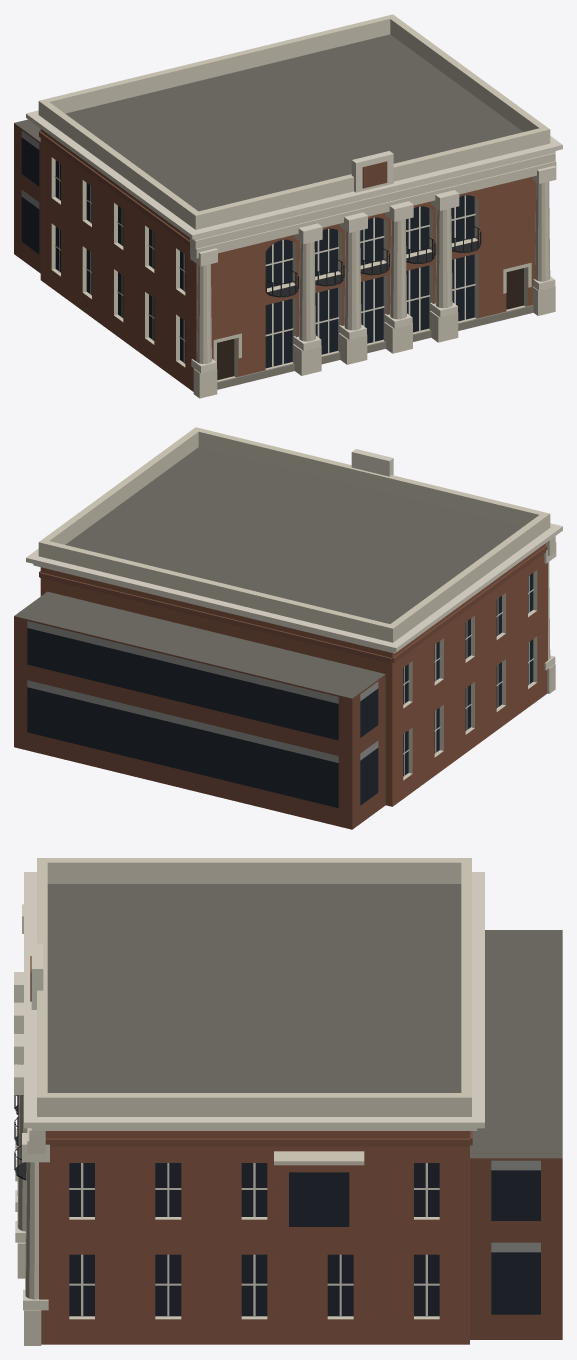
Rendered from central-fire-station-1961.glb.
The picture shows the model from 3 angles, top to bottom: view 1: azimuth 30°, elevation 25°; view 2: azimuth 150°, elevation 25°; view 3: azimuth 270°, elevation 25°; orthographic projection. The views are drawn at different scales.
Visible parts, largest first — view 1: central_stone, central_roof, central_brick, central_glass, central_trim, central_brick2, central_sash, central_iron, central_granite, central_door; view 2: central_roof, central_glass, central_brick, central_stone, central_brick2, central_trim, central_metal, central_sash; view 3: central_roof, central_brick, central_stone, central_glass, central_trim, central_brick2, central_sash, central_metal.
Part boxes in pixels (x1,y1,x2,y2): central_stone: [38, 14, 556, 398]; central_roof: [14, 34, 522, 211]; central_brick: [40, 129, 535, 391]; central_glass: [21, 137, 474, 368]; central_trim: [26, 110, 562, 373]; central_brick2: [14, 123, 387, 273]; central_sash: [55, 163, 475, 367]; central_iron: [265, 225, 481, 297]; central_granite: [217, 305, 533, 389]; central_door: [217, 268, 523, 380]; central_roof: [14, 447, 523, 698]; central_glass: [27, 573, 533, 808]; central_brick: [40, 543, 547, 806]; central_stone: [38, 427, 556, 780]; central_brick2: [14, 546, 547, 829]; central_trim: [26, 449, 562, 670]; central_metal: [27, 621, 378, 762]; central_sash: [403, 575, 533, 776]; central_roof: [47, 884, 562, 1158]; central_brick: [39, 1131, 469, 1344]; central_stone: [17, 858, 471, 1345]; central_glass: [69, 1163, 540, 1316]; central_trim: [14, 872, 484, 1310]; central_brick2: [30, 956, 562, 1339]; central_sash: [69, 1163, 439, 1316]; central_metal: [491, 1160, 540, 1252].
Size of the model in its own units: 27.9 by 13.8 by 25.48.
